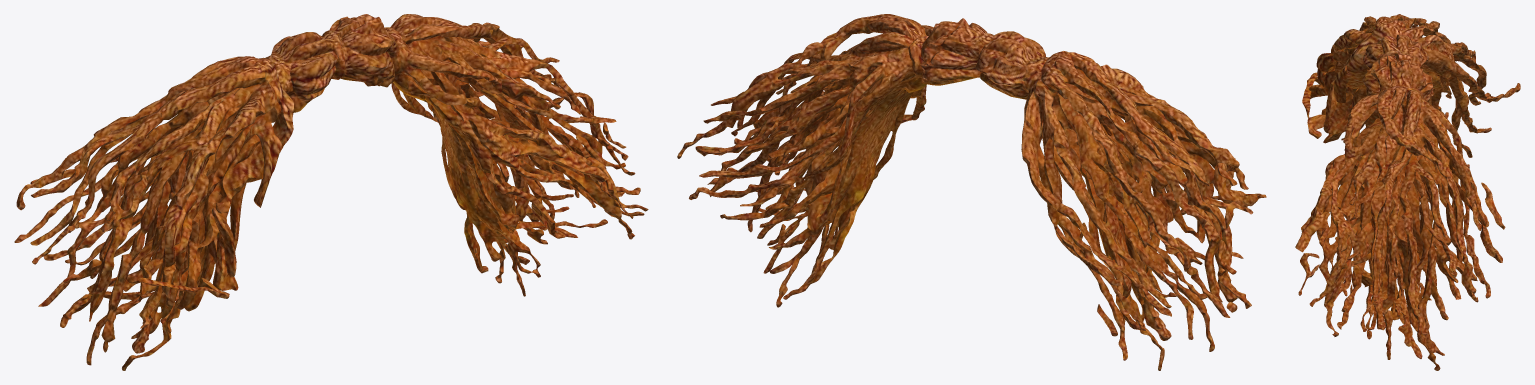
The model's file is leo-hair.glb.
3 renders of one model, left to right at view 1: azimuth 30°, elevation 25°; view 2: azimuth 150°, elevation 25°; view 3: azimuth 270°, elevation 25°, orthographic. The views are drawn at different scales.
Parts seen in each view (by area): view 1: body; view 2: body; view 3: body.
Part boxes in pixels (x1,y1,x2,y2): body: [14, 14, 648, 370]; body: [677, 14, 1266, 370]; body: [1295, 14, 1520, 370].
Size of the model in its own units: 1.89 by 1.04 by 0.8426.
1 material, 1 textured.
